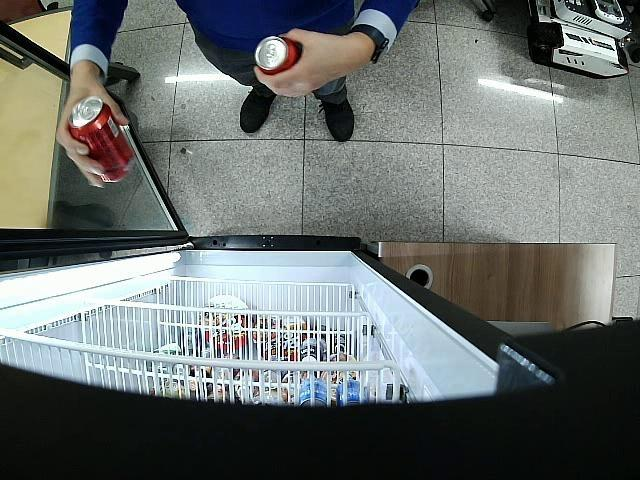11_cocaColaZero: (66, 96, 138, 183), (255, 36, 303, 76)
